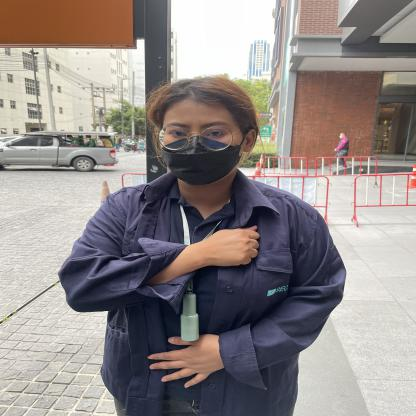Sadness: (66, 220, 281, 304)
